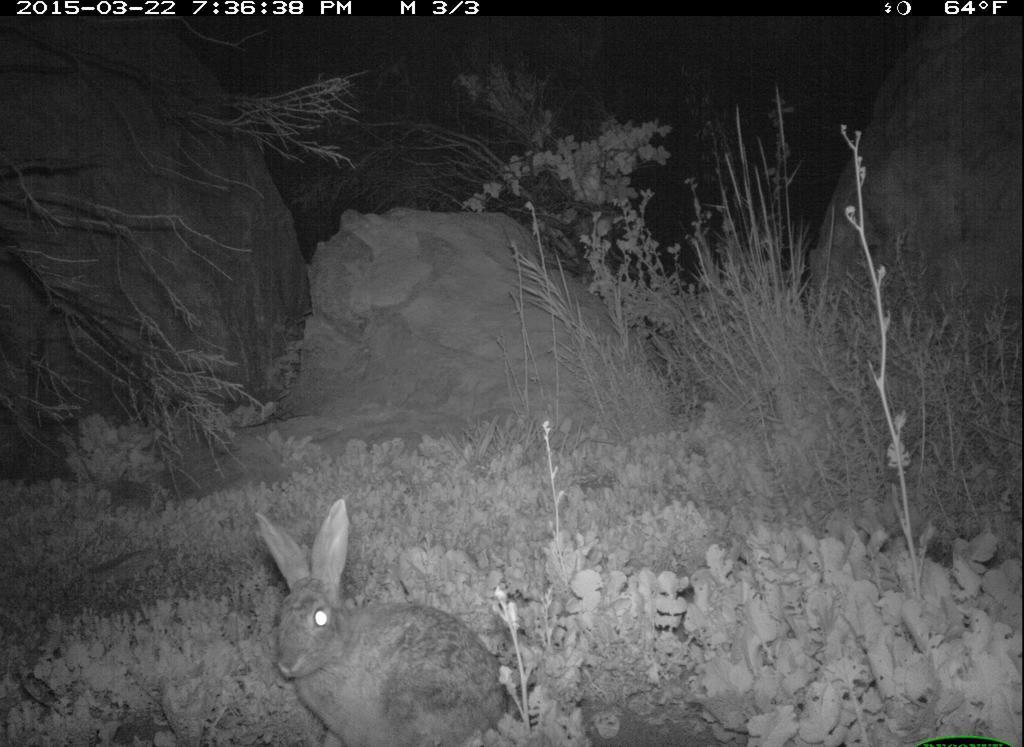rabbit: (251, 500, 514, 747)
